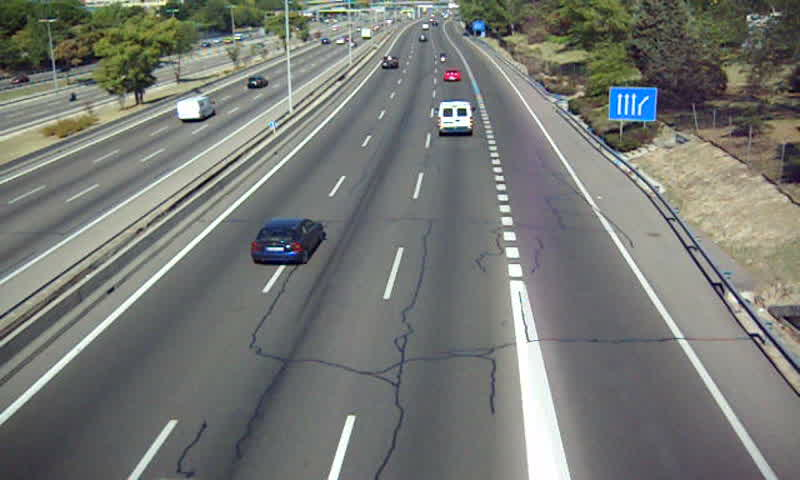car: (250, 218, 324, 262), (443, 70, 463, 85), (380, 56, 398, 72)
van: (437, 101, 473, 134)
